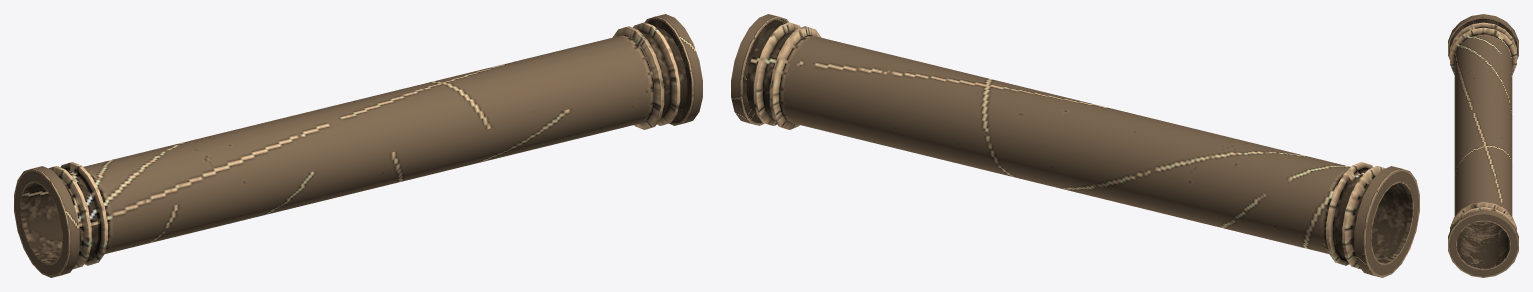
Rendered from pipe17.FBX.
The picture shows the model from 3 angles, left to right: view 1: azimuth 30°, elevation 25°; view 2: azimuth 150°, elevation 25°; view 3: azimuth 270°, elevation 25°; orthographic projection. The views are drawn at different scales.
Visible parts, largest first — view 1: pipe17; view 2: pipe17; view 3: pipe17.
Boxes of the visible parts, x1,y1,x2,y2 form: pipe17: (14, 14, 702, 277); pipe17: (731, 14, 1419, 277); pipe17: (1448, 14, 1518, 277).
Bounding box in the file's own units: 96.2 × 14.73 × 14.51.
